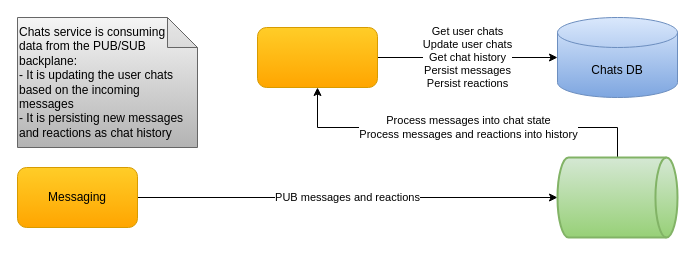
The diagram is 696 pixels wide and 256 high, and some of its shapes have lost their labels. Here are the shapes that lost their labels. From the top down, the centre of each, then its label:
At (x=317, y=57): "Chats".
At (x=617, y=197): "PUB/SUB backplane".
